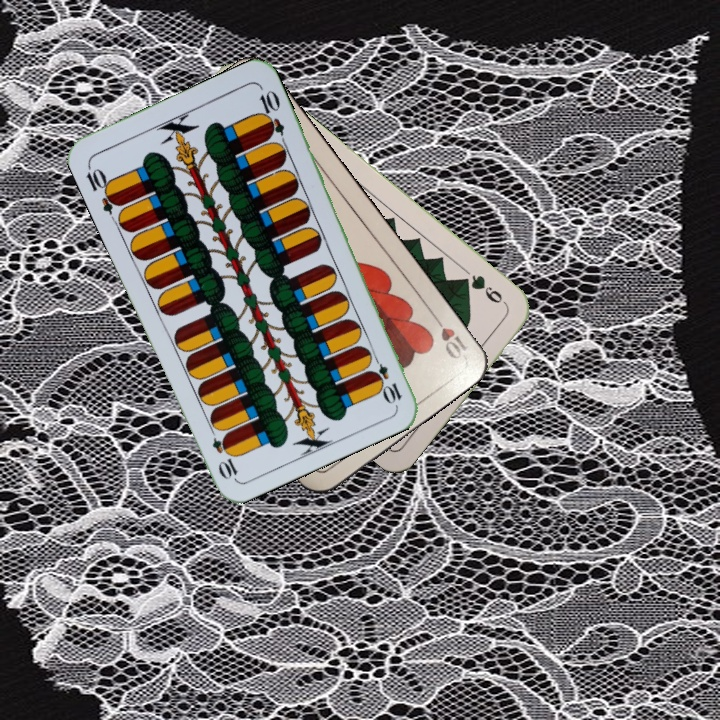E10: (82, 160, 124, 216), (367, 349, 405, 406)
G9: (458, 270, 510, 308)
H10: (428, 308, 471, 364)
